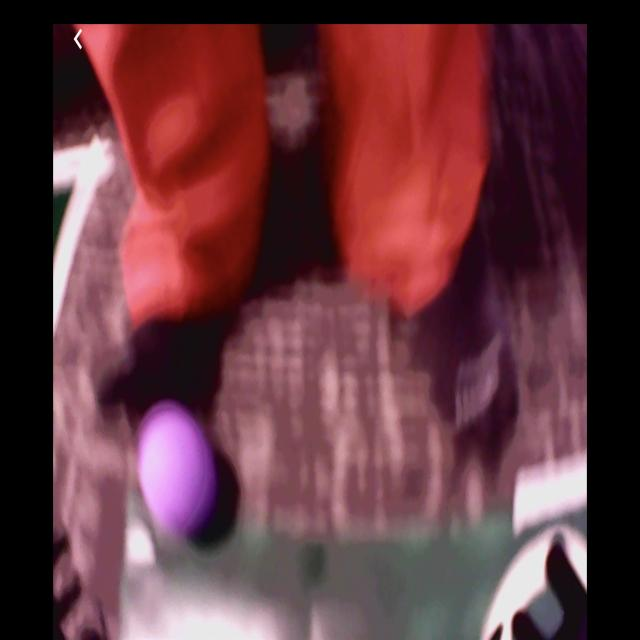ball: (136, 403, 217, 532)
